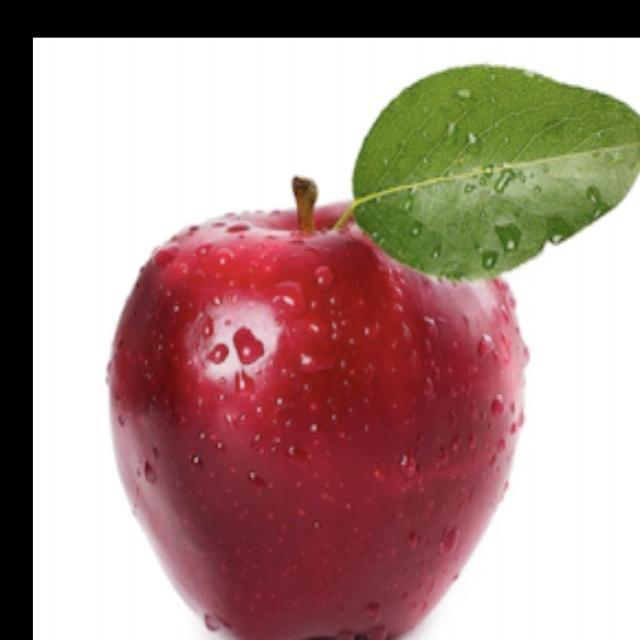Fresh Apple: (94, 164, 524, 640)
